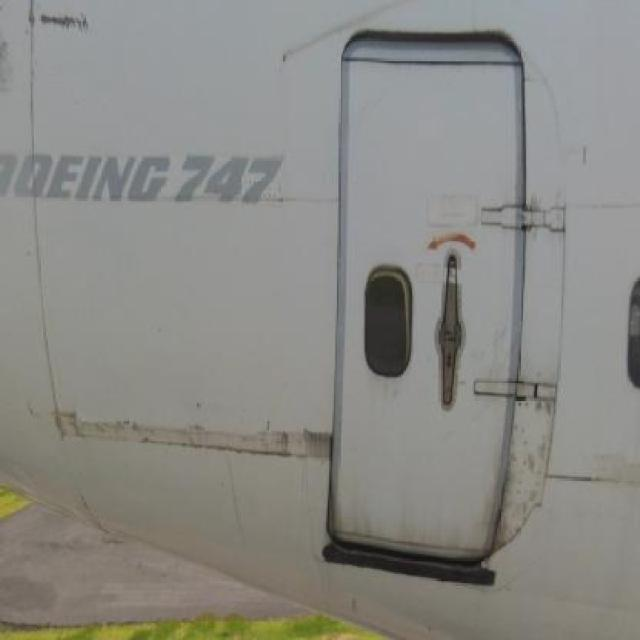Rust: (498, 179, 547, 253)
Scartch: (39, 387, 344, 488), (492, 310, 562, 558), (21, 5, 139, 66)
